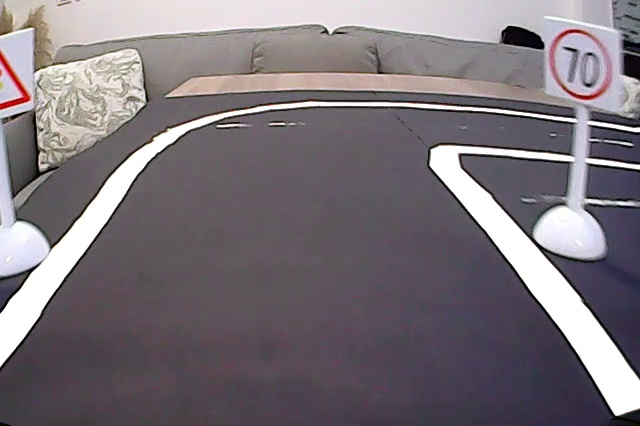speed limit 70: (545, 20, 613, 101)
